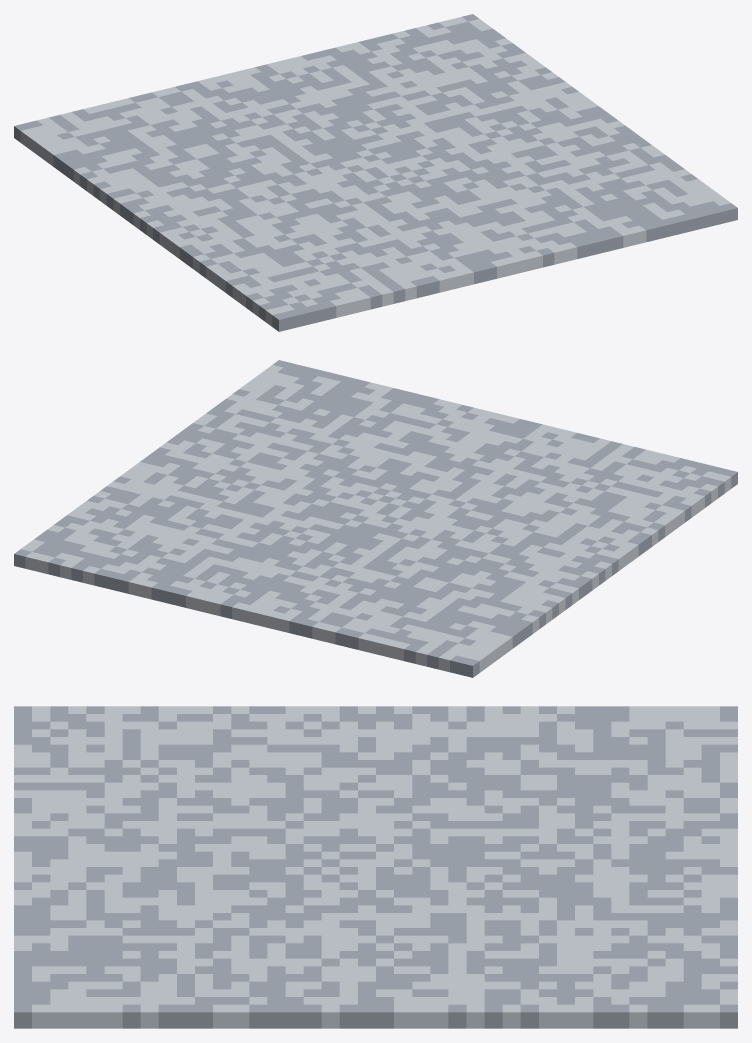
The model's file is ceiling.obj.
The picture shows the model from 3 angles, top to bottom: view 1: azimuth 30°, elevation 25°; view 2: azimuth 150°, elevation 25°; view 3: azimuth 270°, elevation 25°; orthographic projection. The views are drawn at different scales.
Bounding box in the file's own units: 4 × 0.1 × 4.
1 material, 1 textured.
